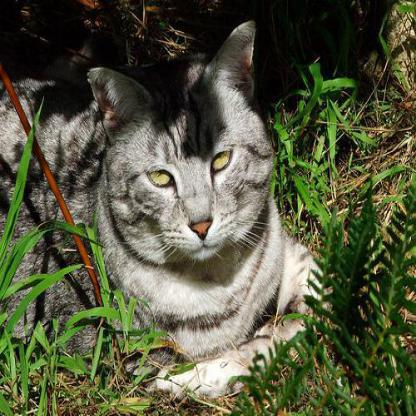cat: (2, 21, 314, 372)
